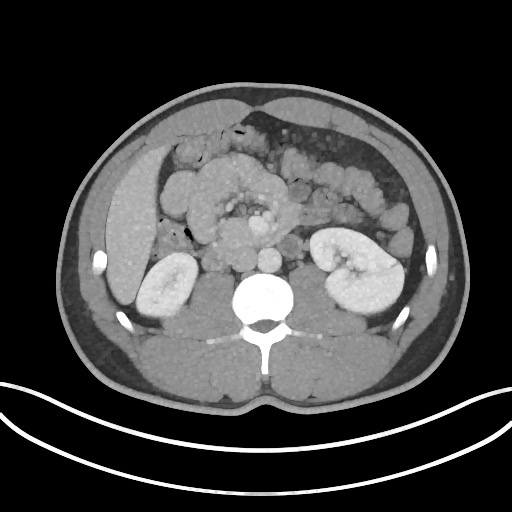Lesion: (386, 256, 402, 270)
